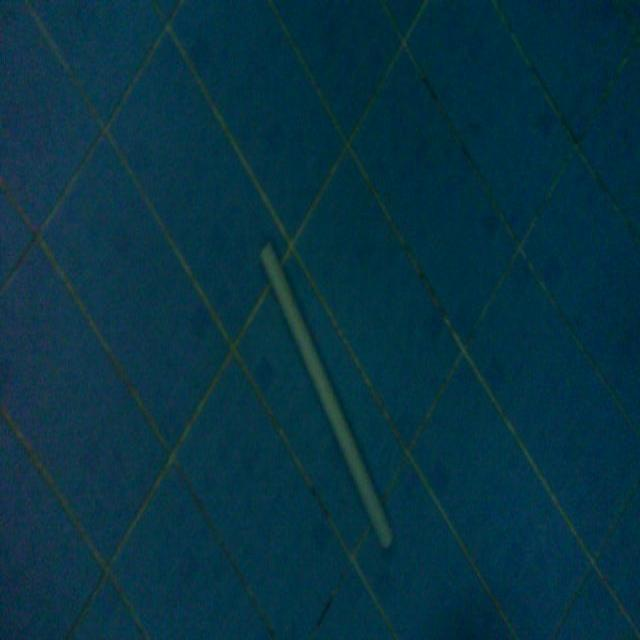Cube: (257, 235, 395, 551)
